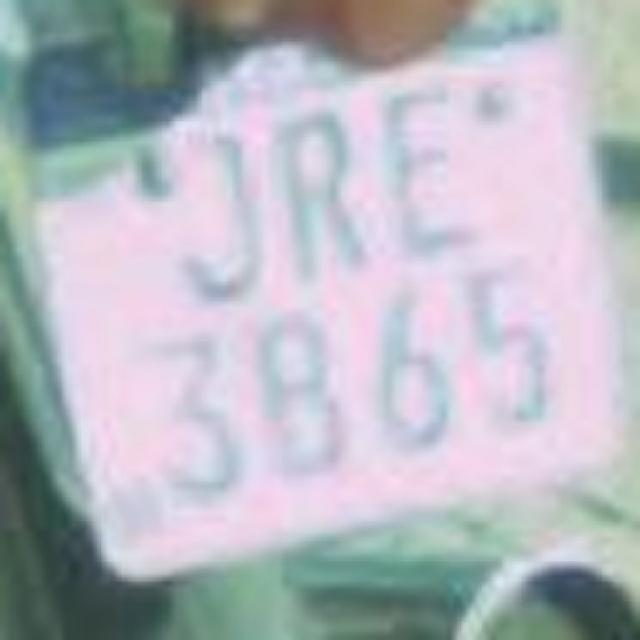3: (104, 304, 284, 524)
5: (436, 260, 589, 440)
6: (331, 260, 484, 472)
B: (232, 275, 372, 500)
E: (364, 80, 488, 255)
J: (128, 125, 272, 320)
